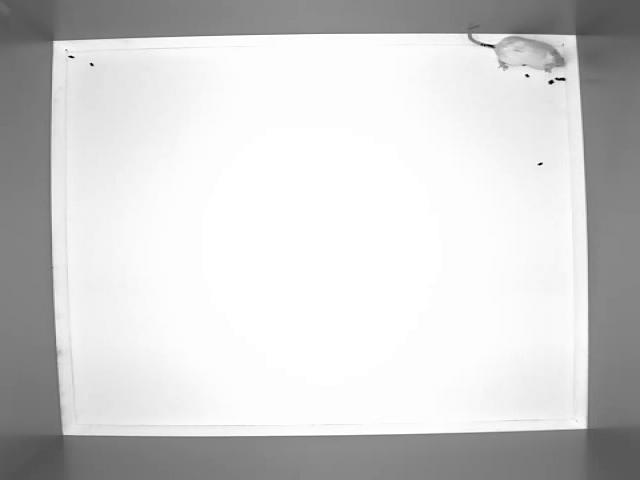Tikus: (467, 24, 570, 74)
